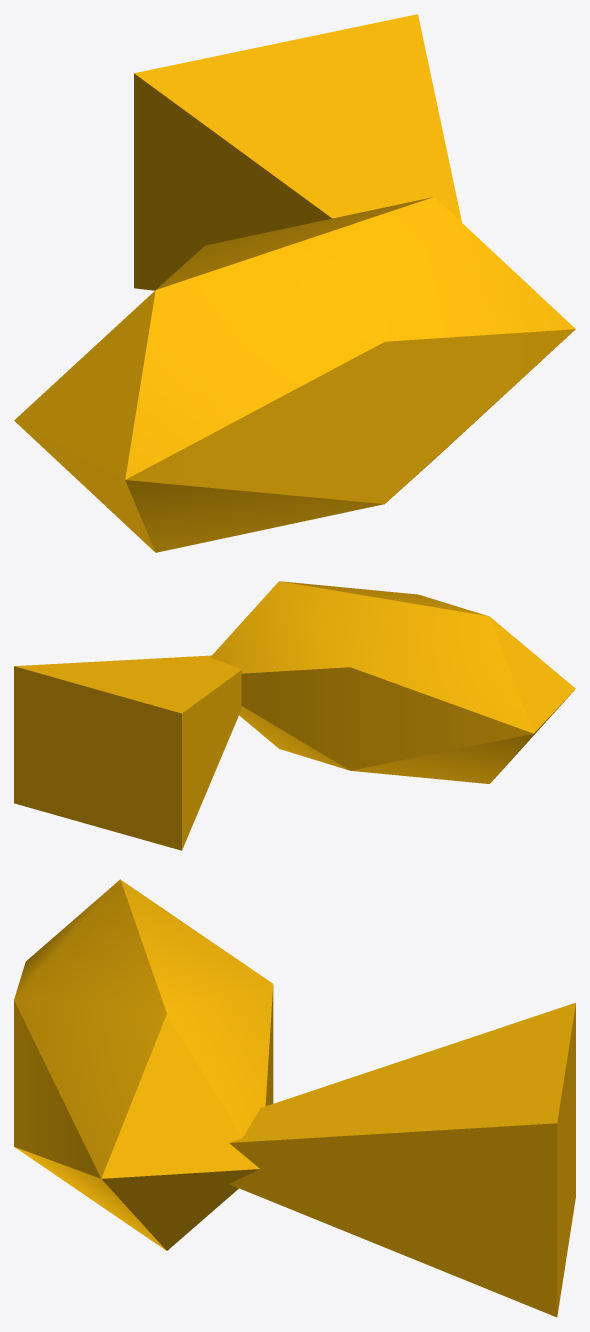
The model's file is fish1.glb.
3 renders of one model, top to bottom at view 1: azimuth 30°, elevation 25°; view 2: azimuth 150°, elevation 25°; view 3: azimuth 270°, elevation 25°, orthographic. The views are drawn at different scales.
Parts seen in each view (by area): view 1: Body, Tail; view 2: Body, Tail; view 3: Body, Tail.
Part boxes in pixels (x1,y1,x2,y2): Body: (14, 197, 575, 552); Tail: (134, 14, 461, 290); Body: (210, 581, 575, 783); Tail: (14, 655, 242, 850); Body: (14, 879, 273, 1250); Tail: (229, 1002, 575, 1317).
Size of the model in its own units: 2.63 by 1.08 by 2.32.
